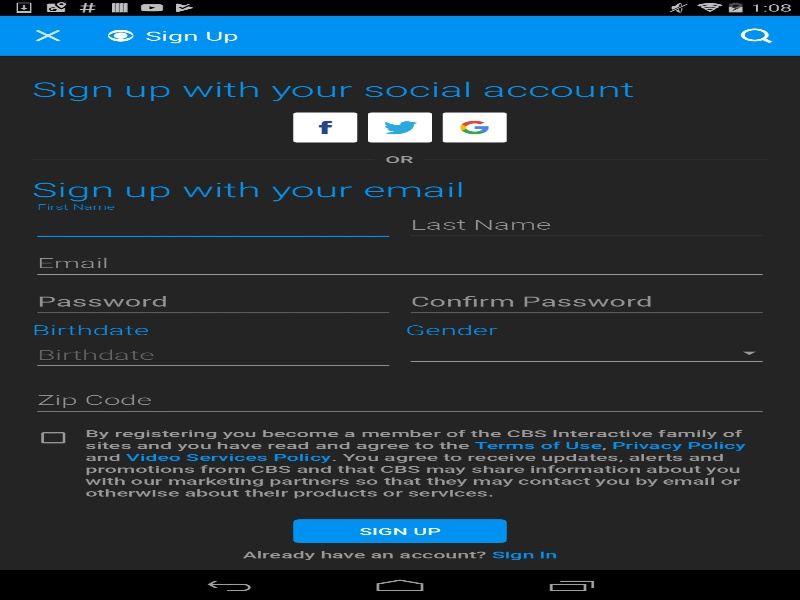Button: (293, 519, 506, 542), (10, 15, 85, 55)
Input: (32, 248, 768, 279), (32, 385, 768, 416), (405, 209, 768, 241), (405, 286, 768, 318), (32, 209, 394, 241), (32, 286, 394, 318), (32, 339, 394, 370)
